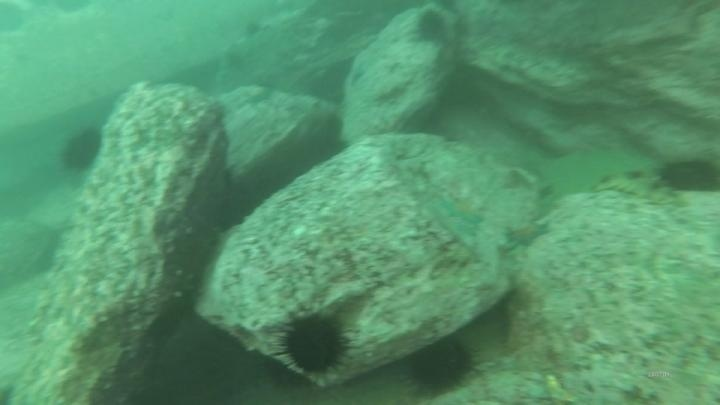echinus: (273, 307, 355, 381), (403, 335, 480, 398), (657, 155, 719, 197), (58, 125, 105, 175), (412, 8, 449, 45)
holothurian: (594, 168, 682, 206)
starfish: (502, 218, 551, 252), (438, 194, 487, 227)
